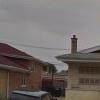Chimney: (64, 30, 87, 58)
